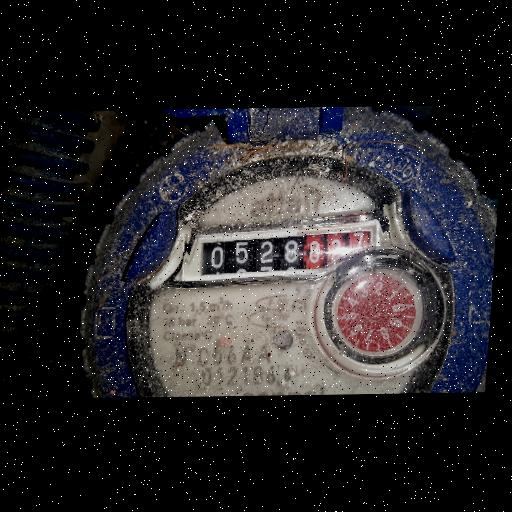0: (206, 242, 227, 275)
2: (324, 232, 348, 267), (254, 238, 277, 272)
5: (230, 240, 251, 272)
7: (347, 229, 372, 252)
8: (302, 234, 326, 268), (279, 236, 302, 271)
border_water_meter_number: (185, 220, 381, 289)
